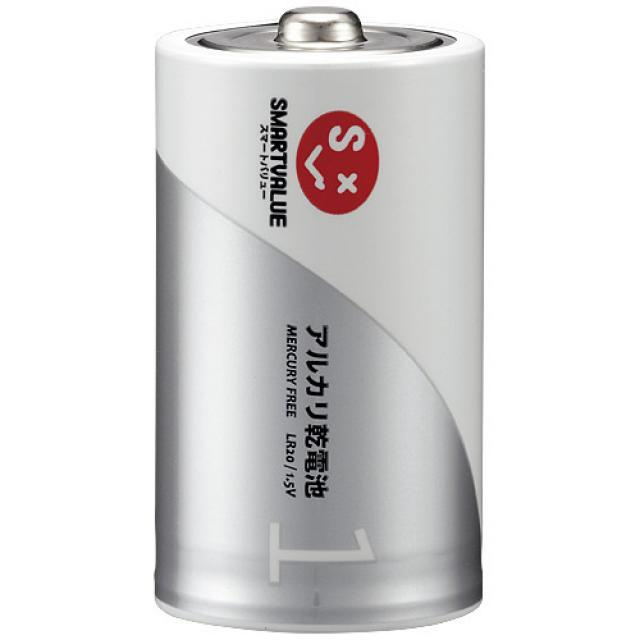hazardous waste: (146, 4, 492, 632)
